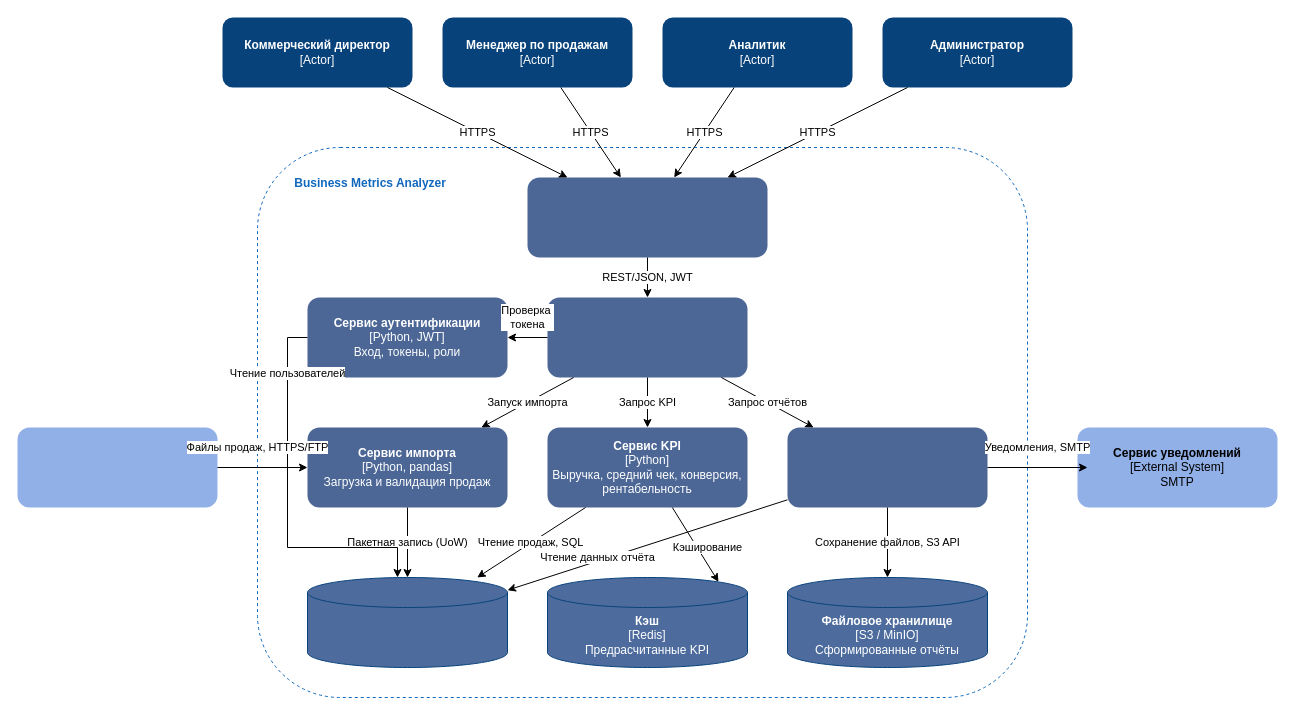
The diagram is 1294 pixels wide and 715 high, and some of its shapes have lost their labels. Here are the shapes that lost their labels. From the top down, the centre of each, then its label:
pixel 647 217: Web UI [HTML/JS] Дашборд KPI, загрузка файлов, отчёты
pixel 647 337: REST API [Python, FastAPI] Контроллеры, проверка JWT
pixel 117 467: Источник данных [External System] 1С / CSV / Excel
pixel 887 467: Сервис отчётов [Python, openpyxl] Отчёты, экспорт в Excel
pixel 407 622: База данных [PostgreSQL] Продажи, пользователи, метрики
